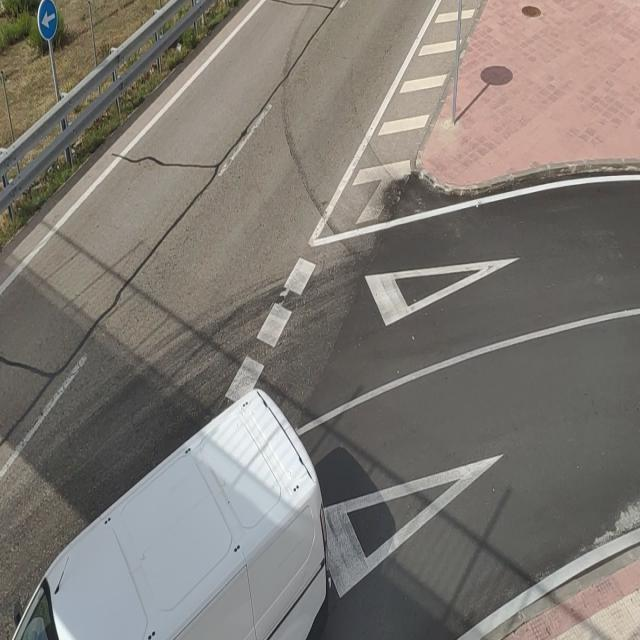Van: (0, 380, 338, 640)
